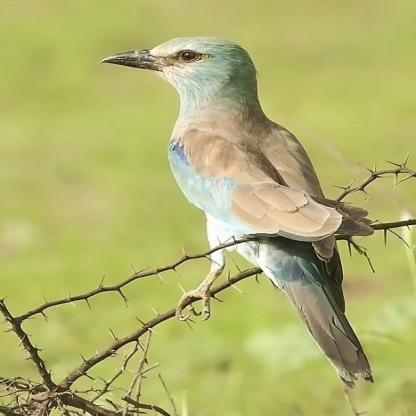Burung: (104, 35, 381, 386)
